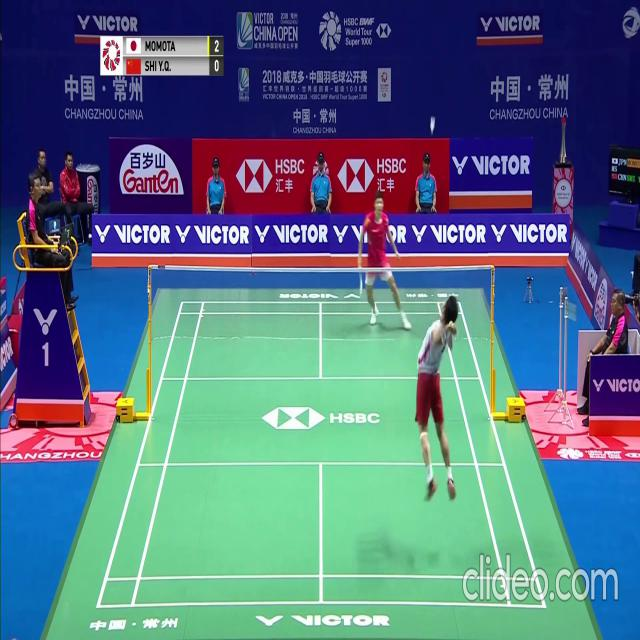Shuttlecock: (430, 128, 434, 135)
